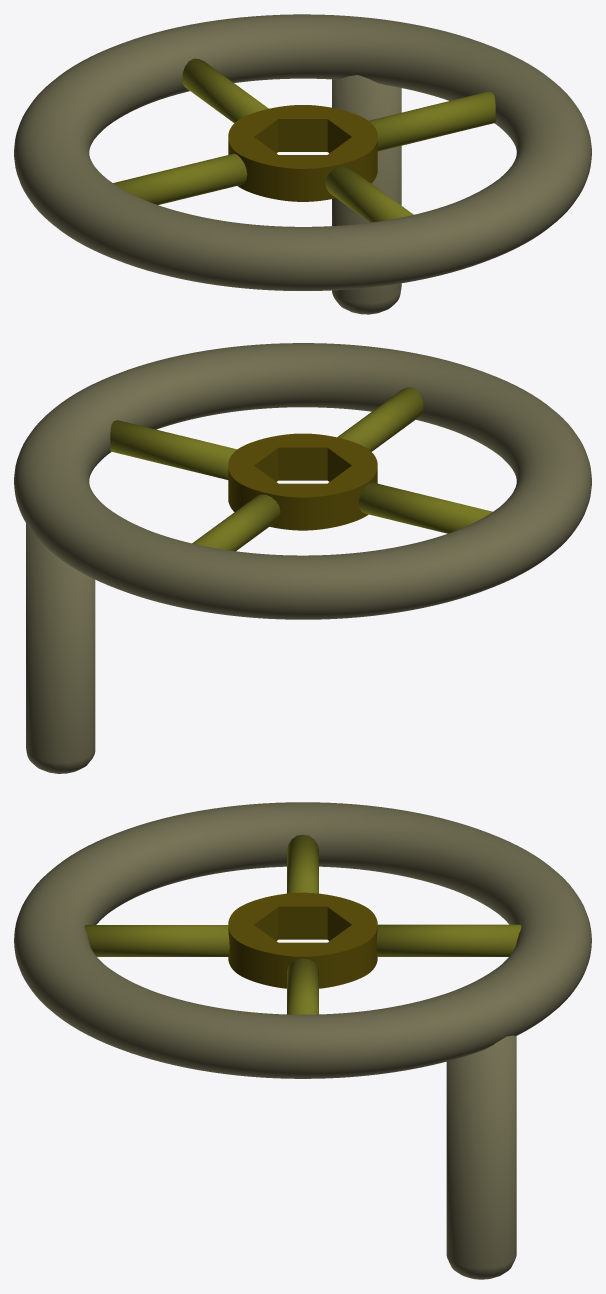
File: FBX_ENV_FUT_Rad.fbx
3 views of the same model, one above another, from view 1: azimuth 30°, elevation 25°; view 2: azimuth 150°, elevation 25°; view 3: azimuth 270°, elevation 25° (orthographic).
Visible parts, largest first — view 1: Kurbel; view 2: Kurbel; view 3: Kurbel.
Boxes of the visible parts, left/top/right/bottom form: Kurbel: left=14, top=14, right=591, bottom=314; Kurbel: left=14, top=343, right=591, bottom=773; Kurbel: left=14, top=802, right=591, bottom=1279.
Size of the model in its own units: 193 by 105 by 193.
